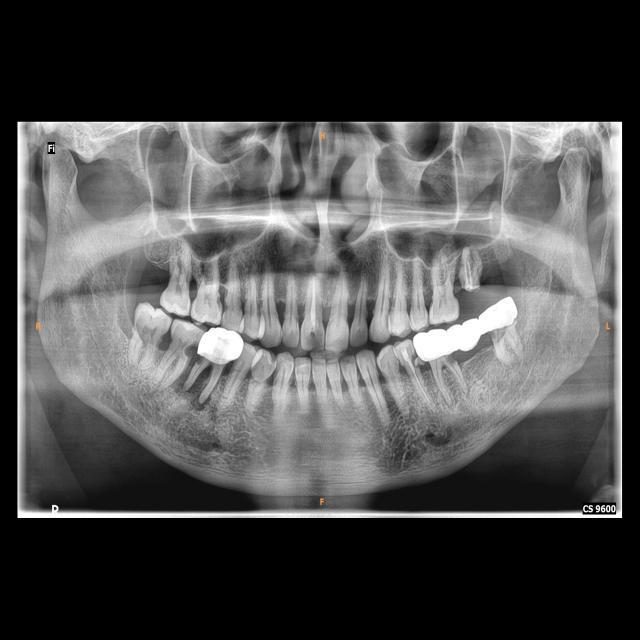dentin-curugu: (303, 326, 327, 350), (222, 285, 232, 316), (182, 342, 195, 359)
kanal-tedavisi: (402, 355, 432, 404), (458, 249, 476, 290), (308, 279, 320, 331)
kaplama: (199, 324, 241, 366), (481, 298, 519, 329), (412, 331, 453, 358)
kok-enfeksiyonu: (176, 374, 214, 416)
kopru: (442, 316, 493, 354)
